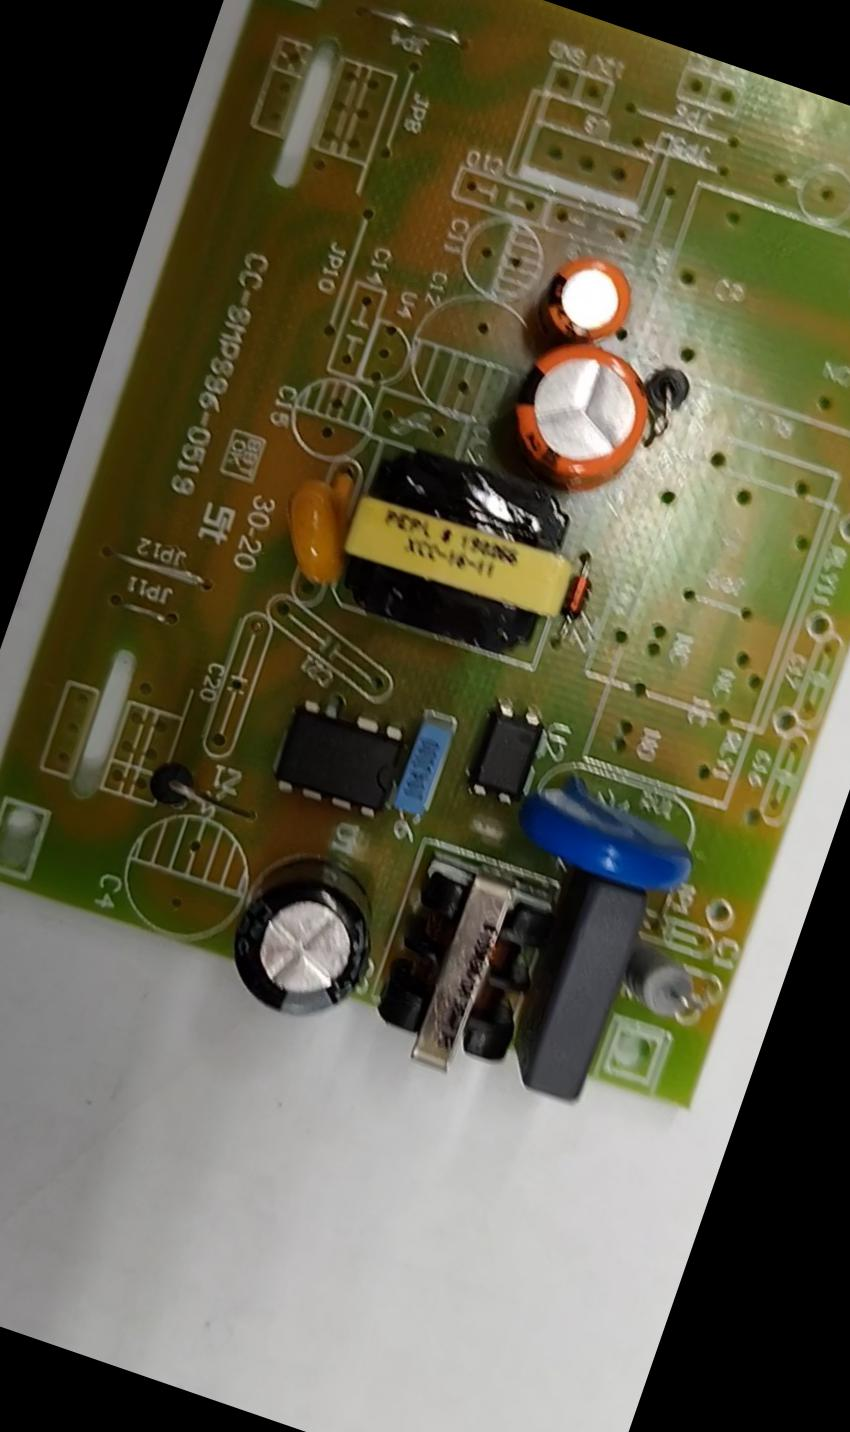Cap1: (499, 332, 660, 498)
Cap2: (534, 244, 640, 354)
Cap3: (221, 835, 396, 1035)
MOSFET: (270, 693, 409, 819)
Mov: (514, 767, 707, 905)
Resistor: (616, 936, 710, 1024)
Transformer: (331, 429, 594, 661), (355, 840, 570, 1093)
